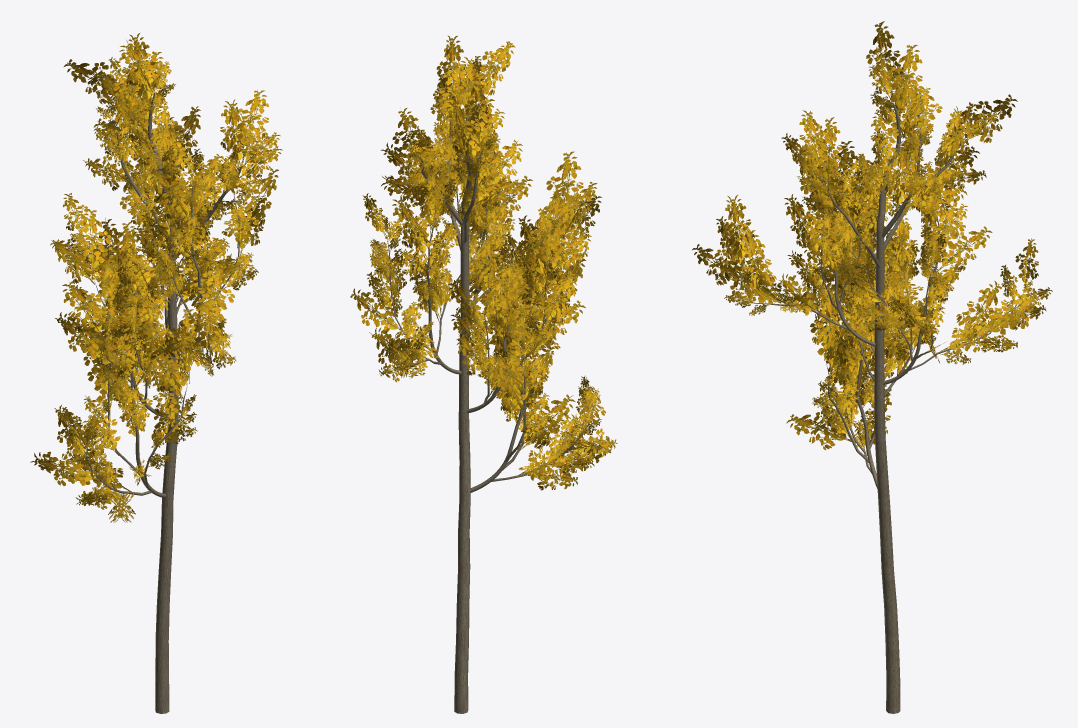
The model's file is aspen_small_01.glb.
3 views of the same model, side by side, from view 1: azimuth 30°, elevation 25°; view 2: azimuth 150°, elevation 25°; view 3: azimuth 270°, elevation 25° (orthographic). The views are drawn at different scales.
Visible parts, largest first — view 1: Tree; view 2: Tree; view 3: Tree.
Part boxes in pixels (left/top/right/bottom): Tree: left=30, top=33, right=282, bottom=713; Tree: left=350, top=35, right=617, bottom=713; Tree: left=692, top=21, right=1052, bottom=713.
Size of the model in its own units: 15.71 by 39.02 by 20.21.
2 materials, 2 textured.
